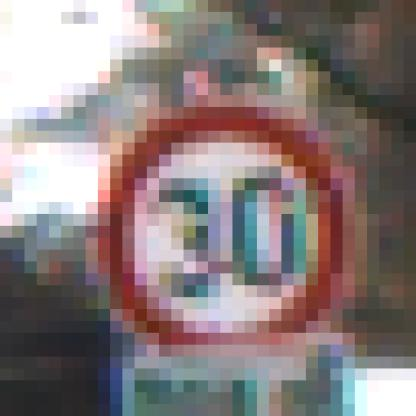Speed Limit 30: (107, 107, 344, 344)
